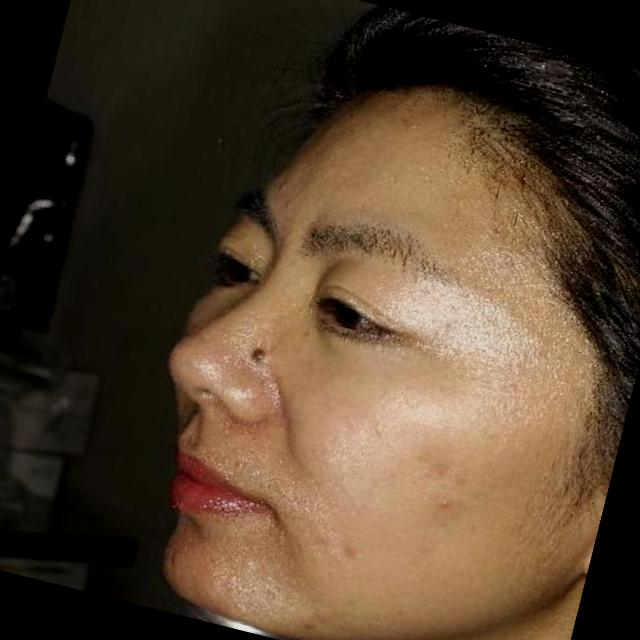darkspot: (332, 534, 367, 569), (302, 525, 338, 556), (426, 453, 458, 483)
nodules: (434, 494, 456, 514)
